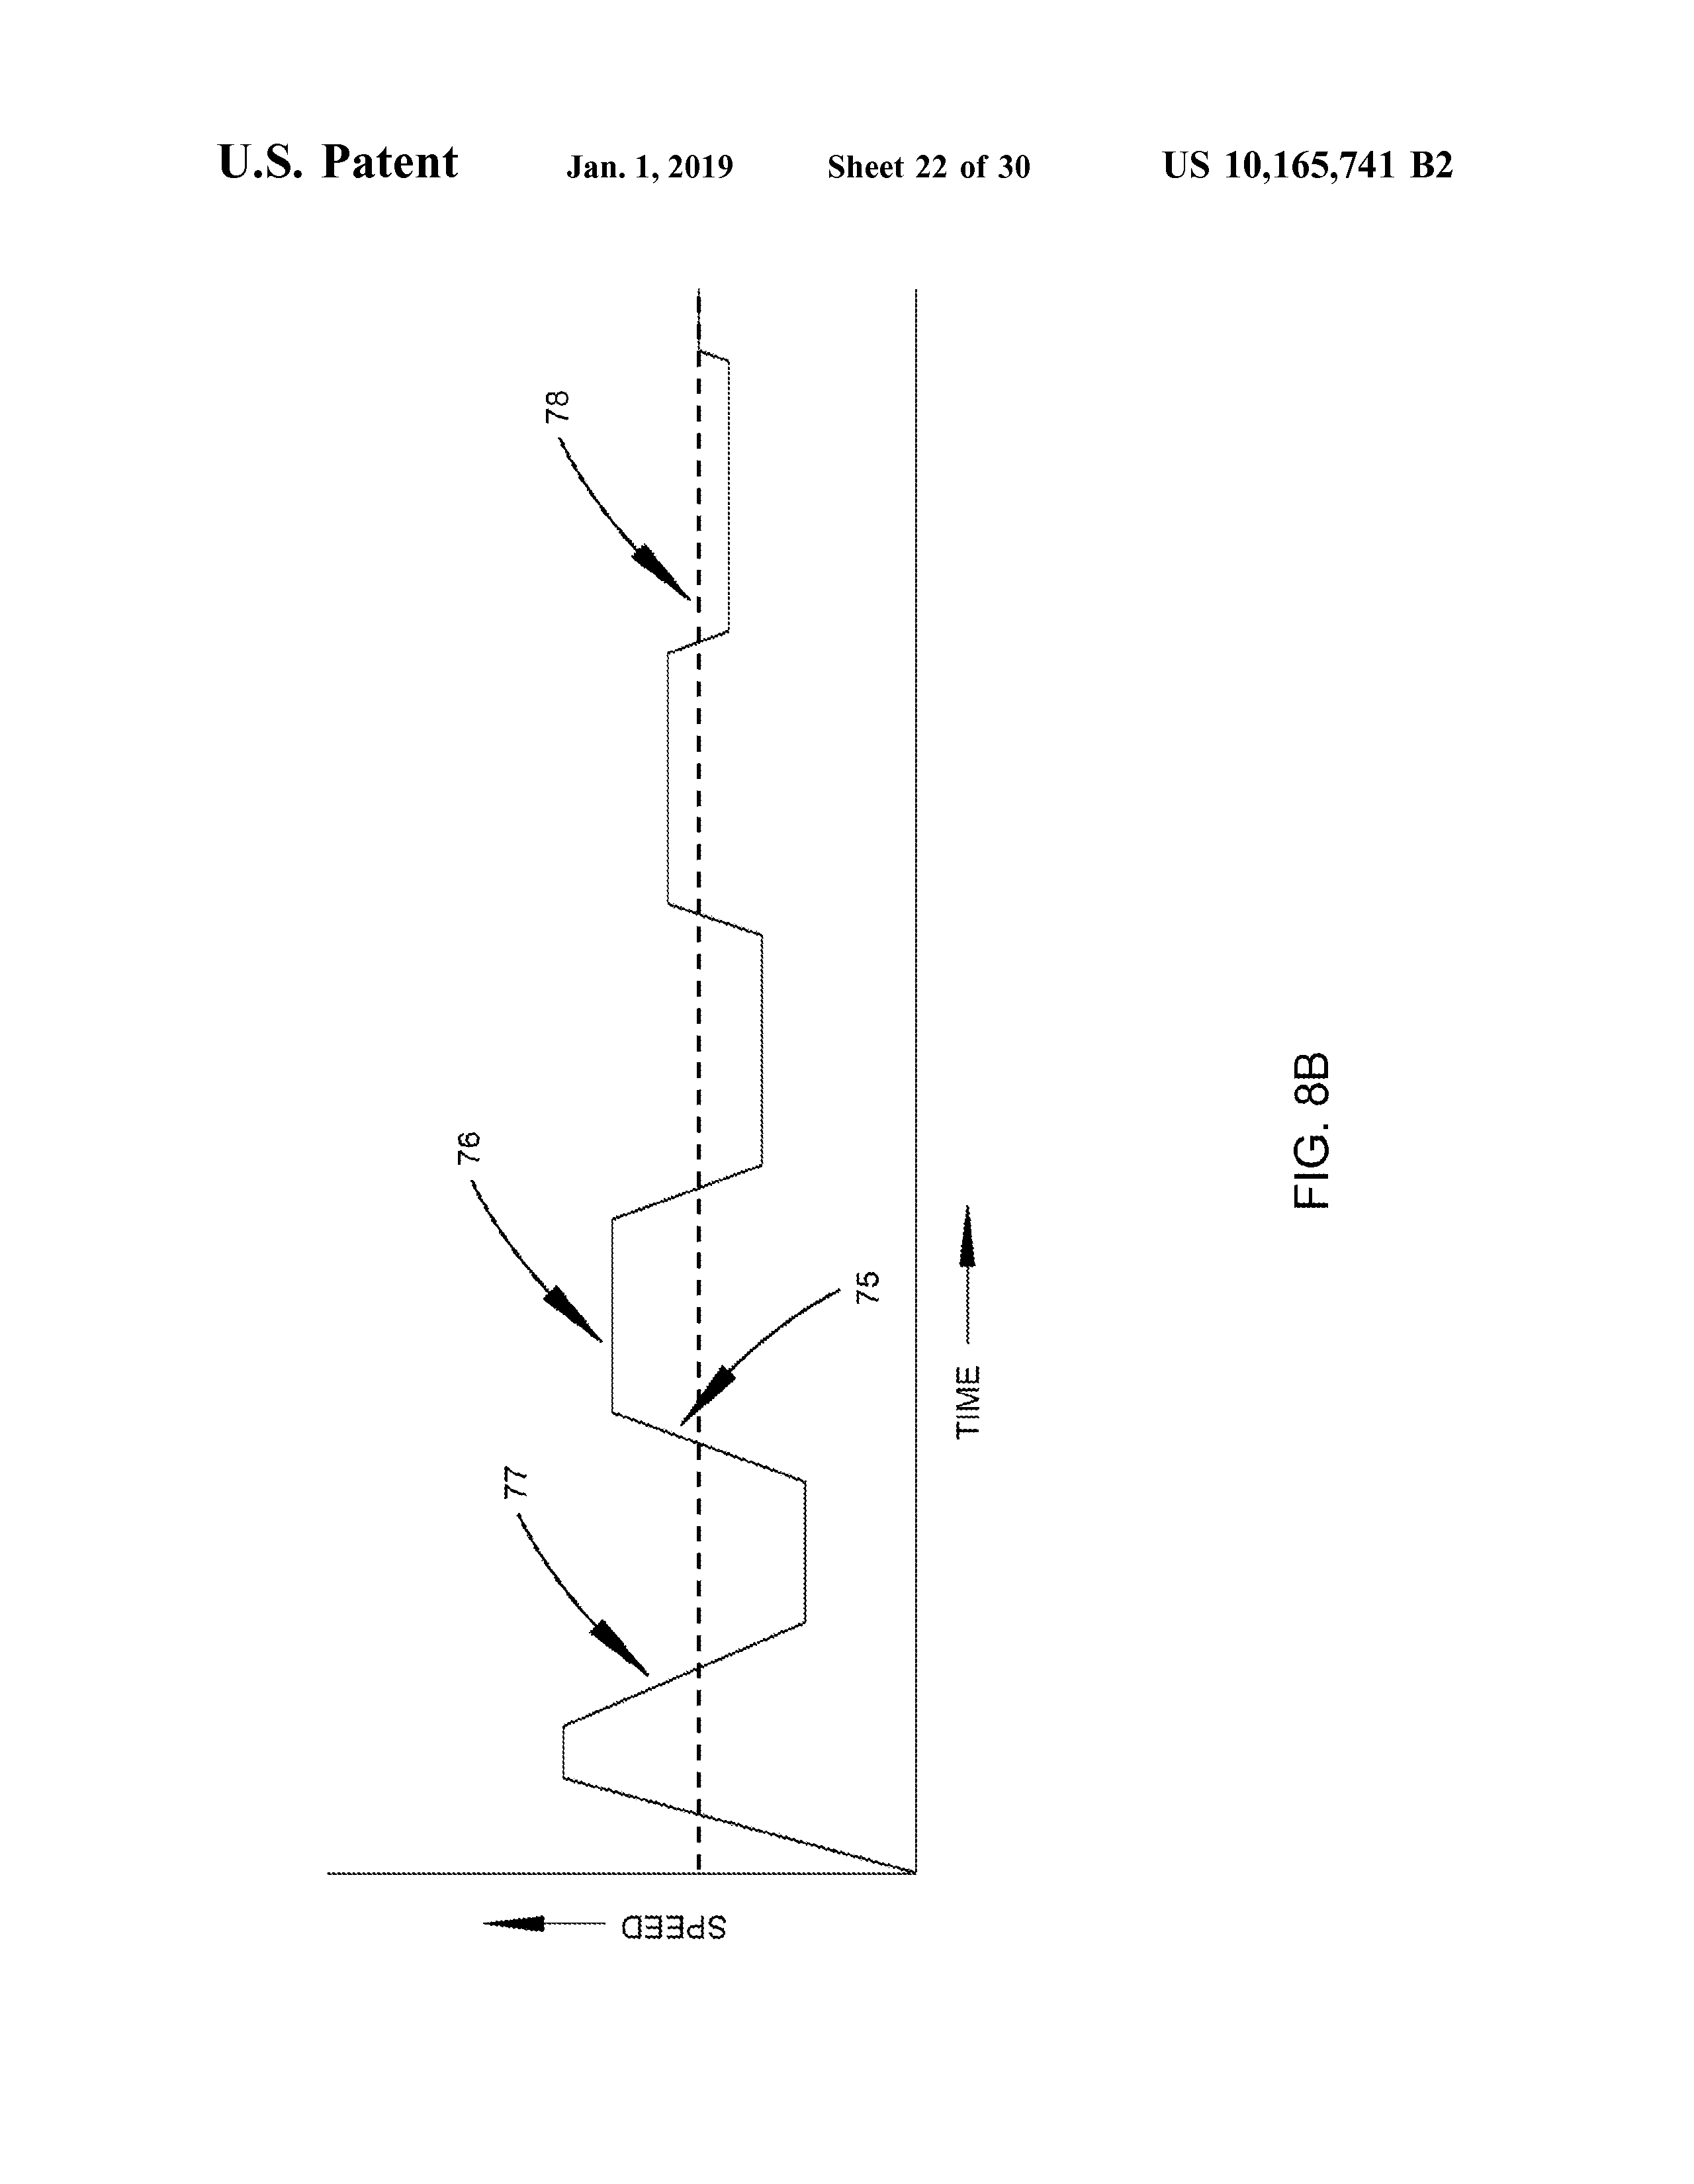patent image: (310, 279, 1383, 1969)
